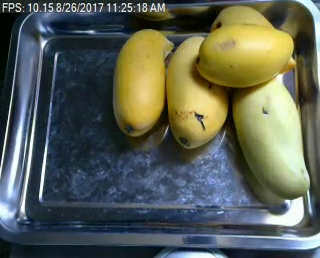Mango: (233, 76, 311, 199), (166, 33, 227, 151), (109, 28, 176, 135), (194, 25, 293, 86), (212, 5, 295, 74)
